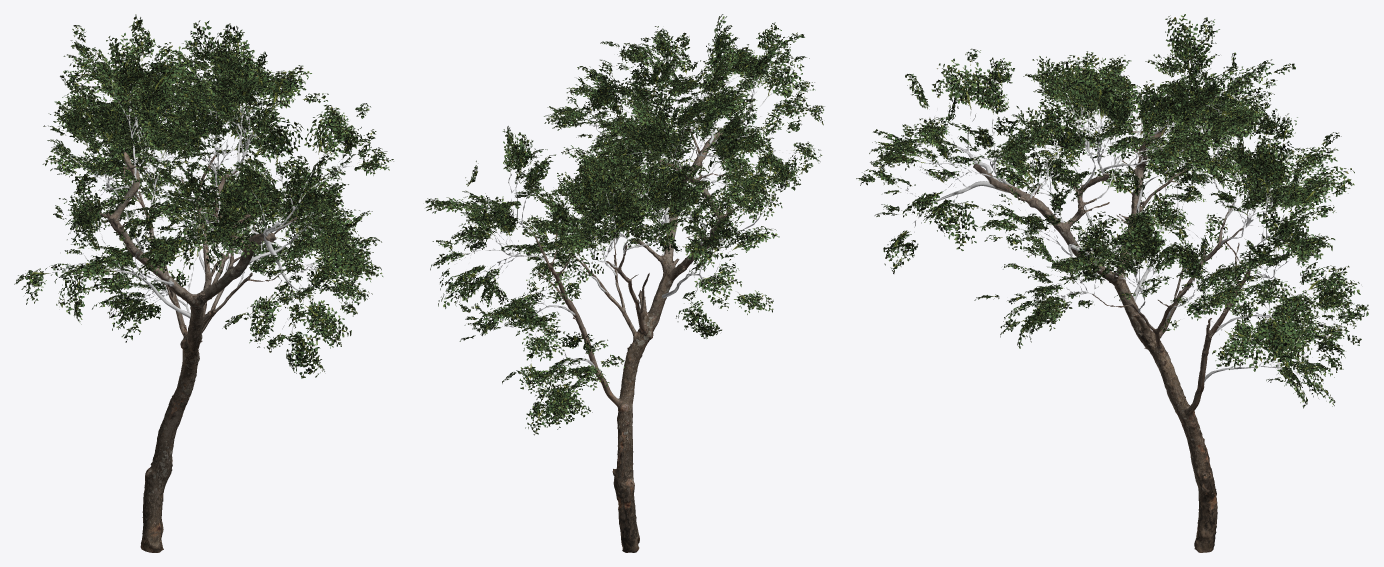
The model's file is tree_small_02_1k_dec.gltf.
The picture shows the model from 3 angles, left to right: view 1: azimuth 30°, elevation 25°; view 2: azimuth 150°, elevation 25°; view 3: azimuth 270°, elevation 25°; orthographic projection. The views are drawn at different scales.
Parts seen in each view (by area): view 1: tree_small_02_LOD0; view 2: tree_small_02_LOD0; view 3: tree_small_02_LOD0.
Part boxes in pixels (<box>): tree_small_02_LOD0: <box>14,14,393,552</box>; tree_small_02_LOD0: <box>425,14,824,552</box>; tree_small_02_LOD0: <box>856,14,1368,552</box>.
Bounding box in the file's own units: 2.91 × 4.56 × 4.28.
